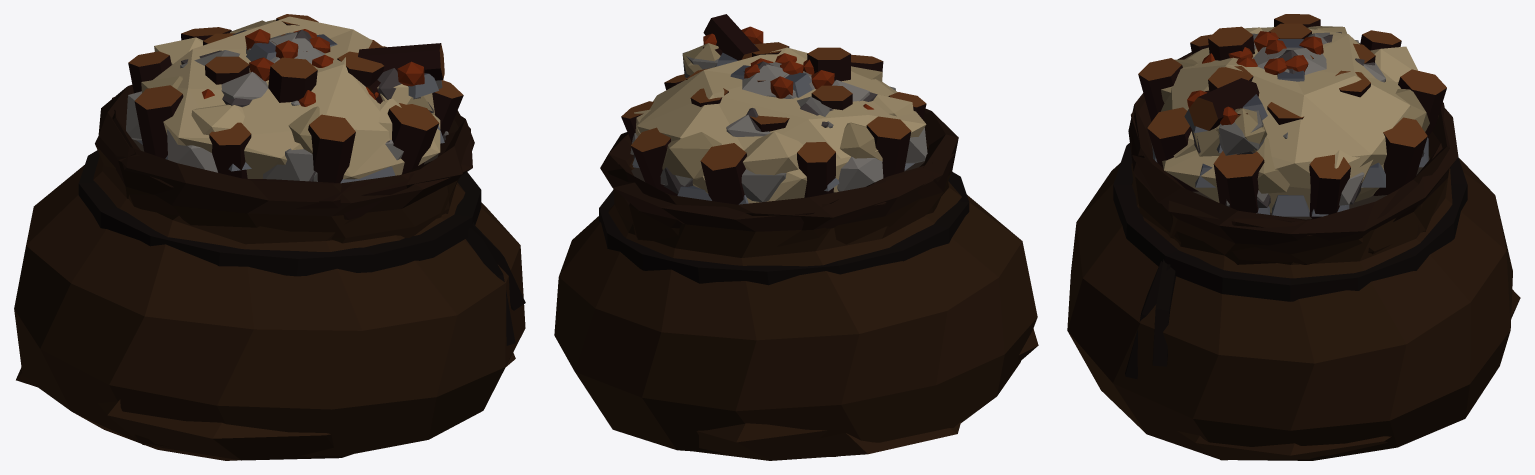
File: fallen_bag.fbx
The picture shows the model from 3 angles, left to right: view 1: azimuth 30°, elevation 25°; view 2: azimuth 150°, elevation 25°; view 3: azimuth 270°, elevation 25°; orthographic projection. The views are drawn at different scales.
Parts seen in each view (by area): view 1: FallenBag_SackFull, FallenBag_SackSlack, FallenBag_HeapWool, FallenBag_HeapWood, FallenBag_HeapStone, FallenBag_HeapOre, FallenBag_AccentWood, FallenBag_AccentOre, FallenBag_HeapIron, FallenBag_AccentWool; view 2: FallenBag_SackFull, FallenBag_HeapWool, FallenBag_SackSlack, FallenBag_HeapWood, FallenBag_HeapStone, FallenBag_HeapOre, FallenBag_AccentWood, FallenBag_HeapIron, FallenBag_AccentWool; view 3: FallenBag_SackFull, FallenBag_HeapWool, FallenBag_HeapWood, FallenBag_SackSlack, FallenBag_HeapOre, FallenBag_HeapIron, FallenBag_AccentWood, FallenBag_HeapStone, FallenBag_AccentWool, FallenBag_AccentStone, FallenBag_AccentOre, FallenBag_AccentIron.
Boxes of the visible parts, x1,y1,x2,y2 form: FallenBag_SackFull: (14, 96, 525, 460); FallenBag_SackSlack: (16, 85, 515, 460); FallenBag_HeapWool: (141, 16, 440, 179); FallenBag_HeapWood: (128, 14, 463, 182); FallenBag_HeapStone: (126, 31, 448, 181); FallenBag_HeapOre: (181, 29, 445, 181); FallenBag_AccentWood: (358, 43, 444, 103); FallenBag_AccentOre: (377, 61, 433, 112); FallenBag_HeapIron: (137, 34, 444, 183); FallenBag_AccentWool: (377, 84, 434, 114); FallenBag_SackFull: (554, 112, 1037, 456); FallenBag_HeapWool: (634, 47, 926, 203); FallenBag_SackSlack: (607, 108, 1038, 460); FallenBag_HeapWood: (621, 42, 926, 204); FallenBag_HeapStone: (630, 62, 927, 202); FallenBag_HeapOre: (633, 53, 877, 194); FallenBag_AccentWood: (703, 14, 759, 60); FallenBag_HeapIron: (632, 65, 914, 204); FallenBag_AccentWool: (682, 43, 720, 78); FallenBag_SackFull: (1067, 95, 1512, 460); FallenBag_HeapWool: (1160, 26, 1429, 212); FallenBag_HeapWood: (1138, 14, 1446, 218); FallenBag_SackSlack: (1128, 43, 1520, 460); FallenBag_HeapOre: (1202, 31, 1424, 208); FallenBag_HeapIron: (1152, 39, 1428, 216); FallenBag_AccentWood: (1189, 78, 1259, 133); FallenBag_HeapStone: (1226, 32, 1385, 205); FallenBag_AccentWool: (1193, 108, 1267, 156); FallenBag_AccentStone: (1218, 110, 1266, 155); FallenBag_AccentOre: (1187, 90, 1255, 154); FallenBag_AccentIron: (1184, 94, 1267, 152).
Size of the model in its own units: 2.54 by 1.86 by 2.28.
